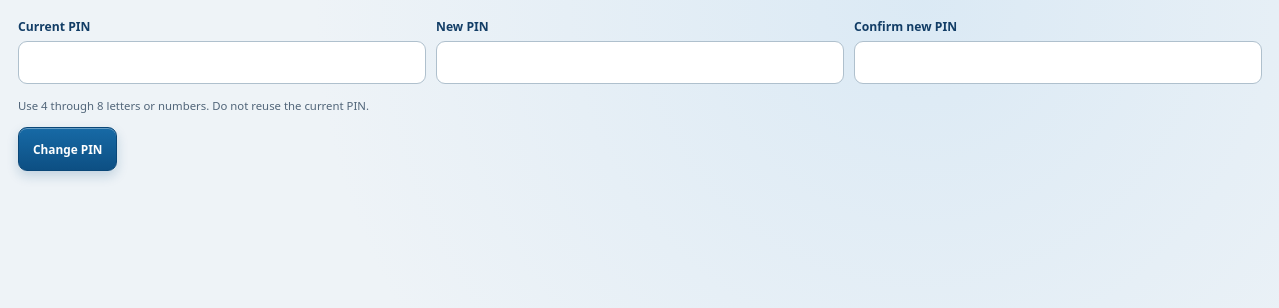
it: Change PIN form › does not submit mismatched PINs
In the password field labelled "Current PIN": (222, 62) [18,41,426,84], type "1234"
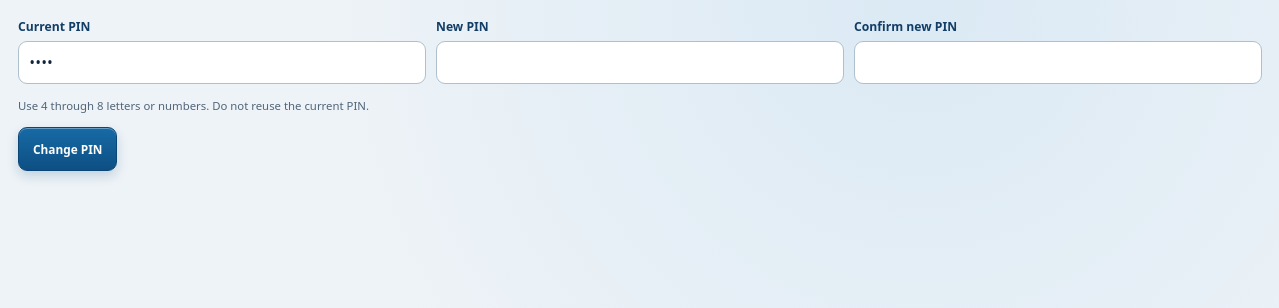
In the password field labelled "New PIN": (640, 62) [436,41,844,84], type "5678"
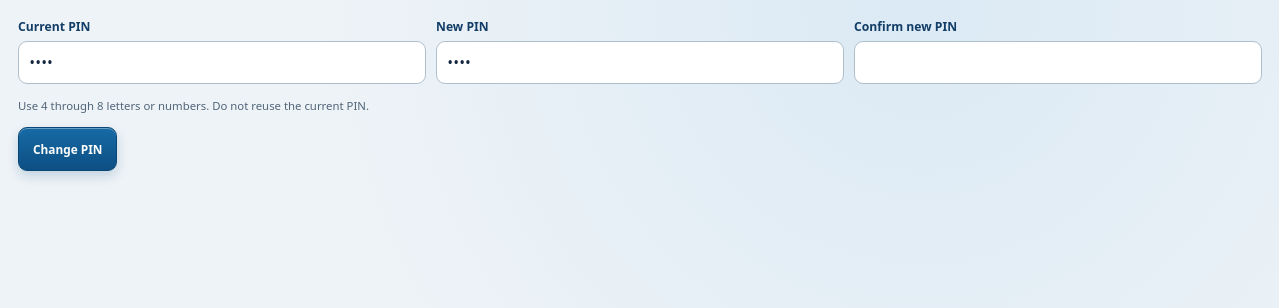
In the password field labelled "Confirm new PIN": (1058, 62) [854,41,1262,84], type "8765"
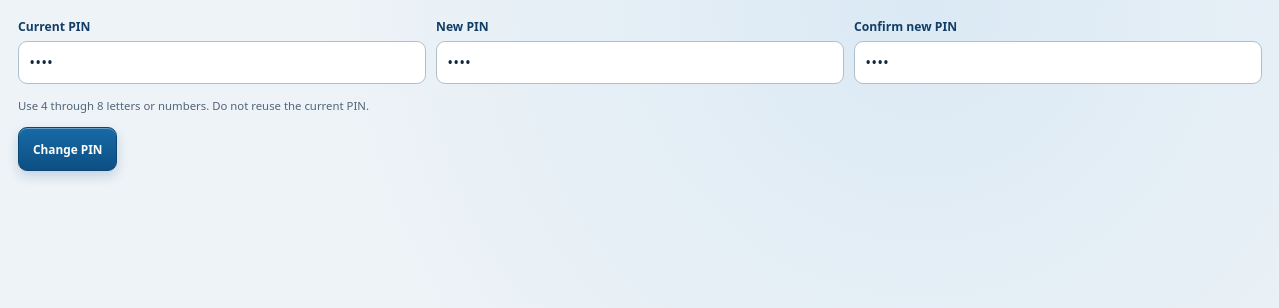
Click the button "Change PIN": (68, 149) [18,127,117,171]
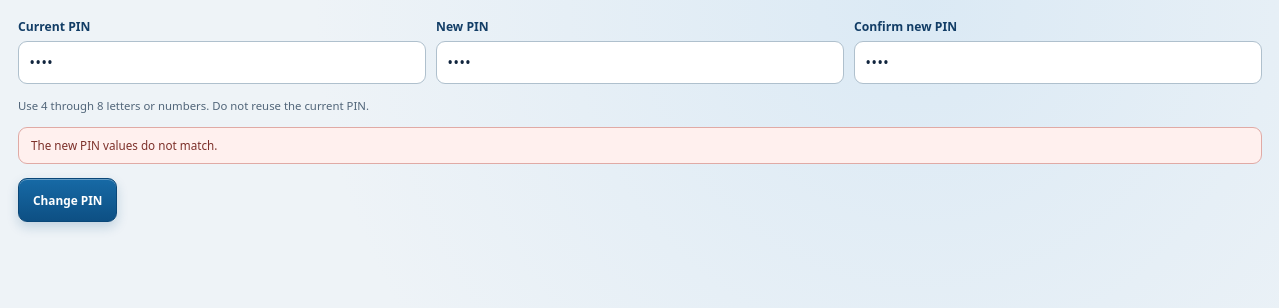
Expected: the message shows "do not match", [31,138,217,153]
